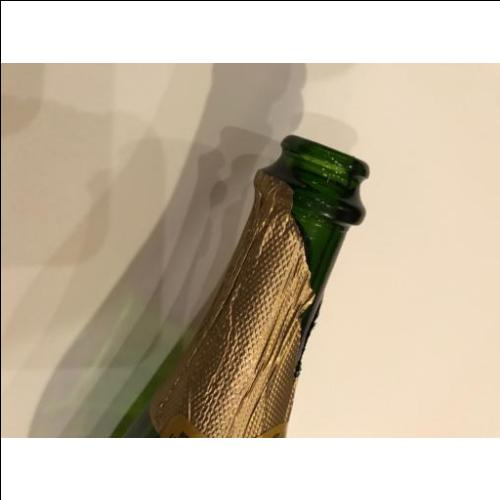glass: (113, 140, 369, 431)
